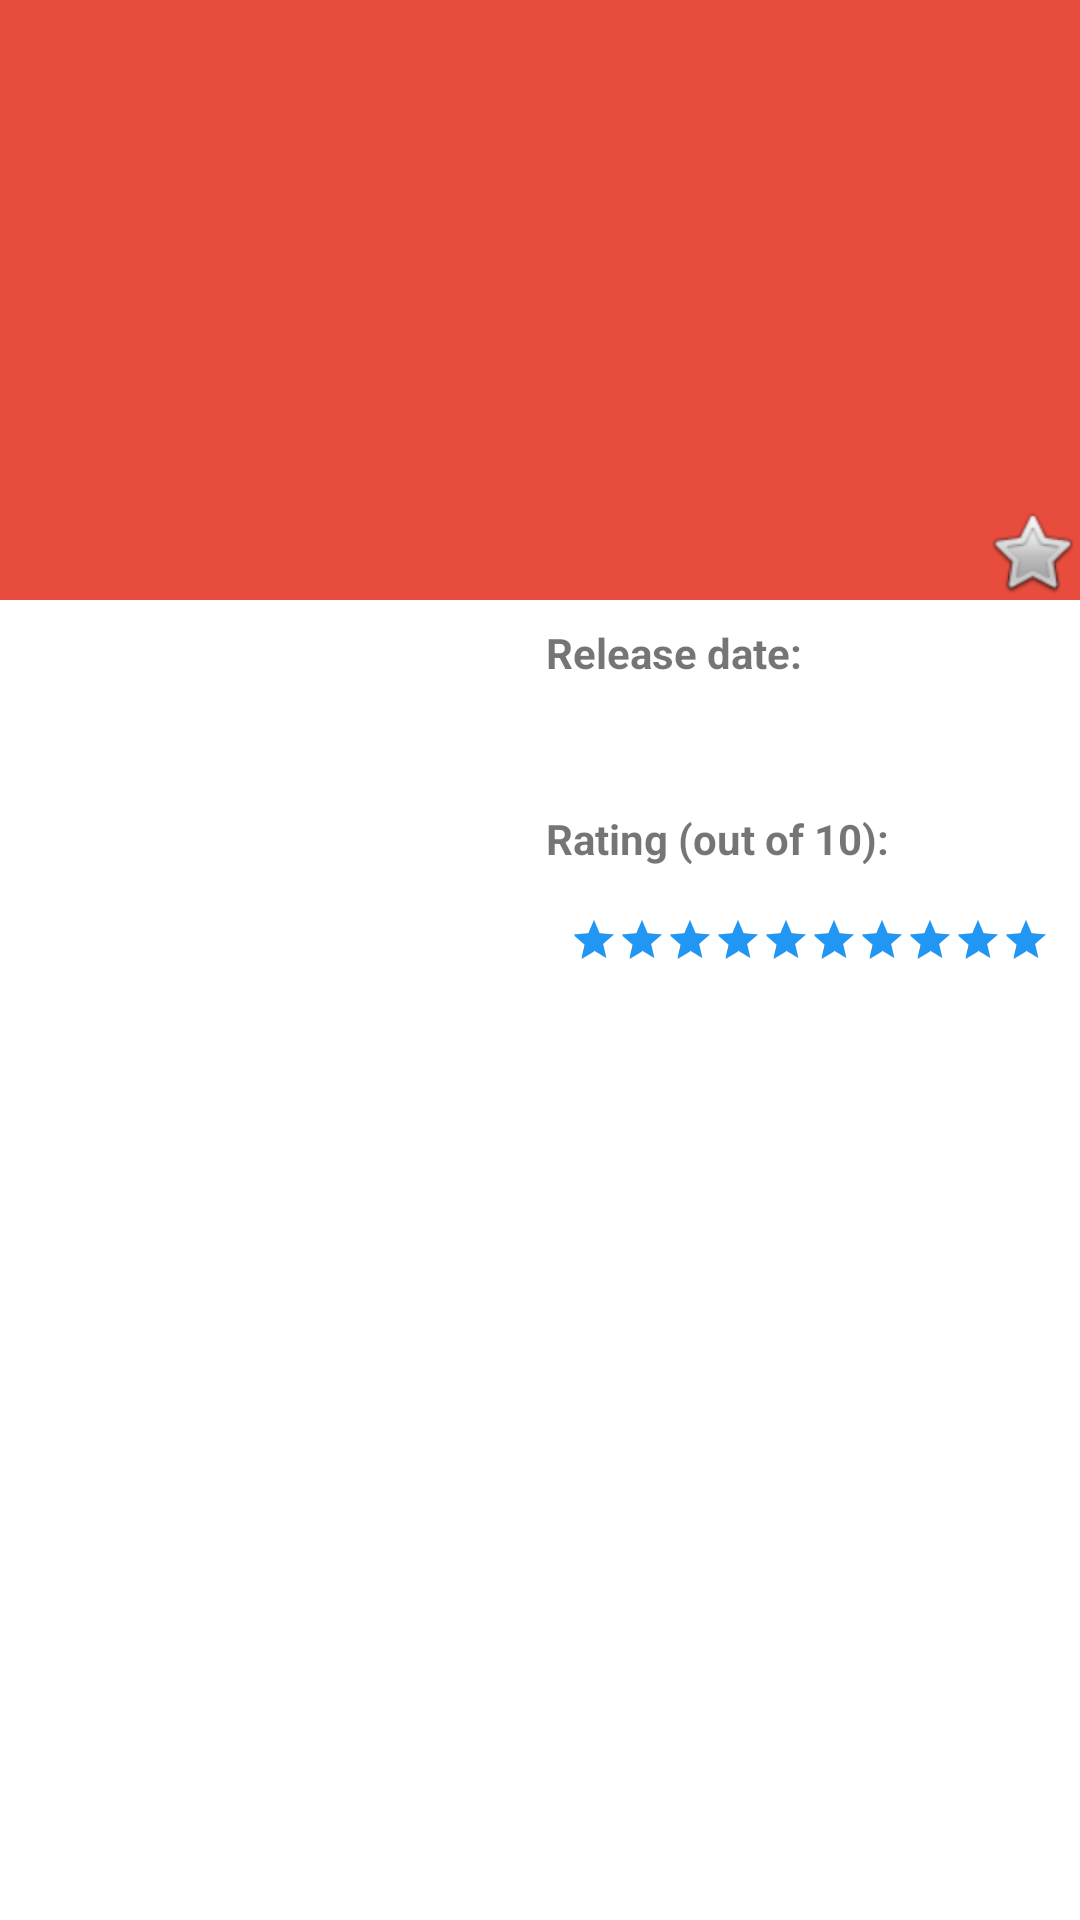

Icon click points for this 1080 x 1920 phone screenshot, format [x,y]:
Favorite Button: [1033,553]
